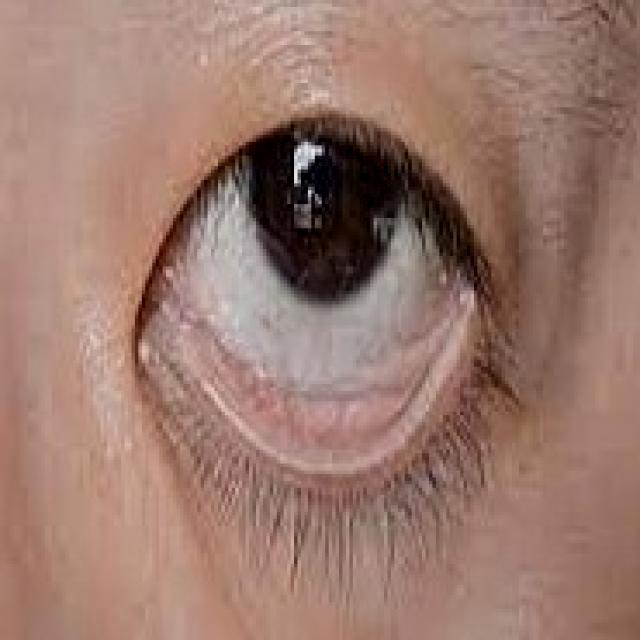conjunctiva_pallor: (173, 300, 465, 470)
